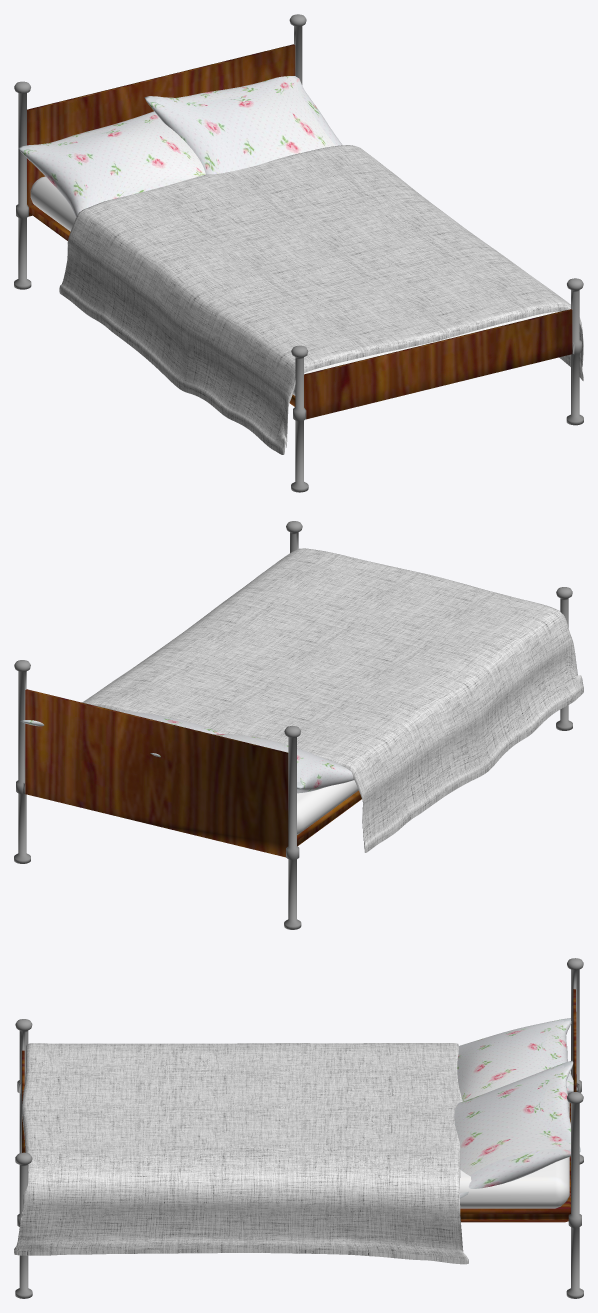
The model's file is bed.FBX.
The picture shows the model from 3 angles, top to bottom: view 1: azimuth 30°, elevation 25°; view 2: azimuth 150°, elevation 25°; view 3: azimuth 270°, elevation 25°; orthographic projection.
Visible parts, largest first — view 1: Plane001, Default, Box002, Box001; view 2: Plane001, Default, Box001, Box002; view 3: Plane001, Default, Box002, Box001.
Part boxes in pixels (x1,y1,x2,y2): Plane001: (59,145,583,454); Default: (14,14,583,492); Box002: (144,76,342,174); Box001: (18,111,205,217); Plane001: (82,548,583,852); Default: (14,521,572,929); Box001: (150,734,353,793); Box002: (20,710,222,734); Plane001: (14,1043,468,1264); Default: (15,958,583,1298); Box002: (454,1060,580,1198); Box001: (457,1018,577,1101).
Size of the model in its own units: 4.99 by 3.13 by 8.02.
5 materials, 5 textured.
